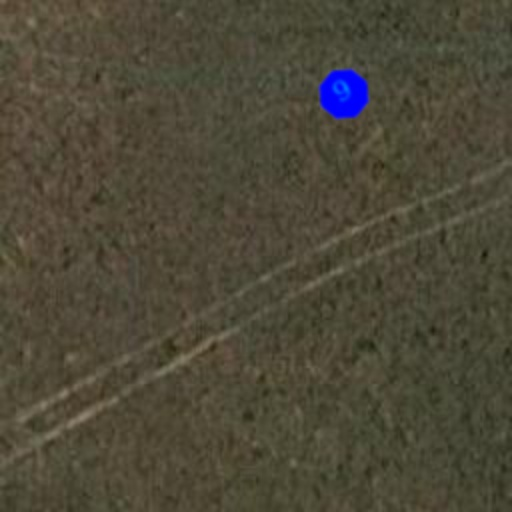octagon: (308, 58, 380, 130)
